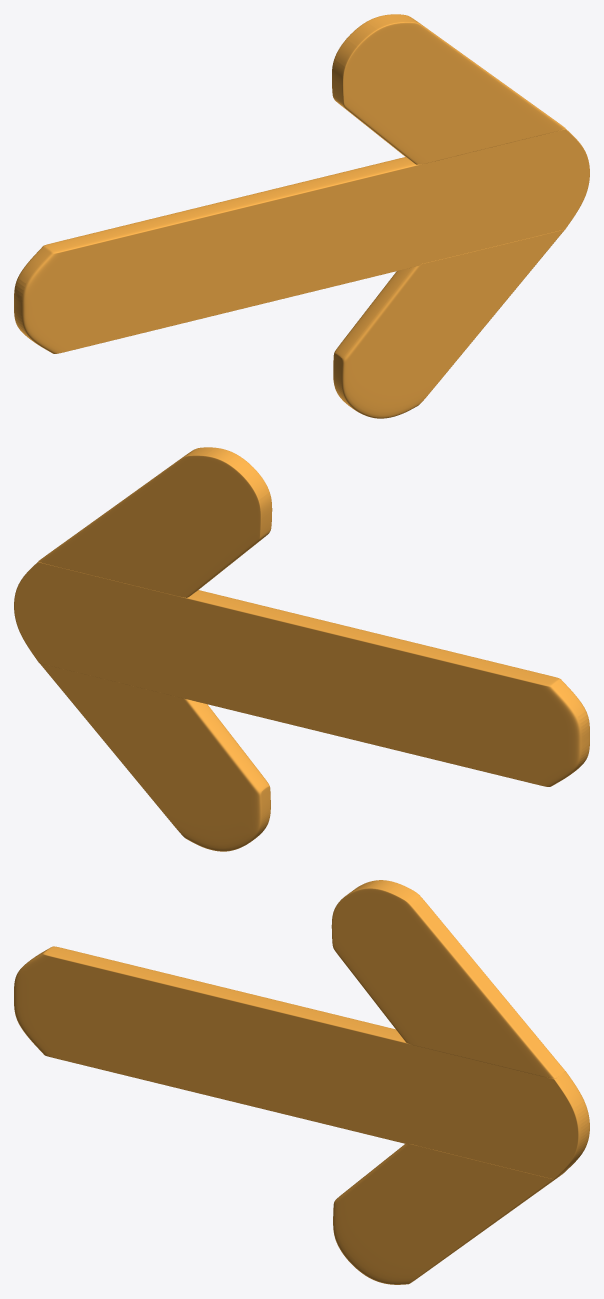
Rendered from arrow3.glb.
The picture shows the model from 3 angles, top to bottom: view 1: azimuth 30°, elevation 25°; view 2: azimuth 150°, elevation 25°; view 3: azimuth 330°, elevation 25°; orthographic projection.
Visible parts, largest first — view 1: ToBlenderArrow.001; view 2: ToBlenderArrow.001; view 3: ToBlenderArrow.001.
Part boxes in pixels (bbox=[...]): ToBlenderArrow.001: bbox=[14, 14, 589, 418]; ToBlenderArrow.001: bbox=[14, 447, 589, 851]; ToBlenderArrow.001: bbox=[14, 880, 589, 1284].
Bounding box in the file's own units: 3.86 × 2.56 × 0.1361.
